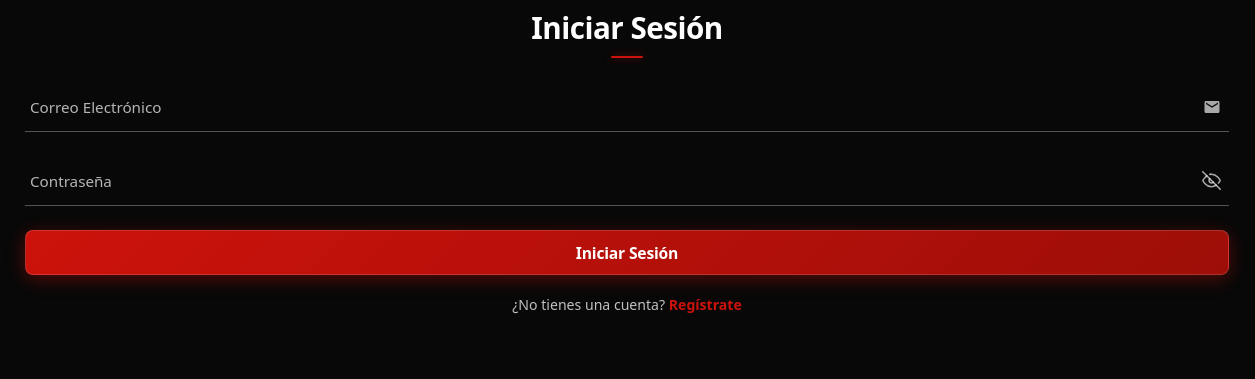
Test: LoginForm › envía las credenciales y solicita el cierre al iniciar sesión
Type "cine@example.com" into the field labelled "Correo Electrónico" at (627, 106), box [25, 82, 1229, 131]
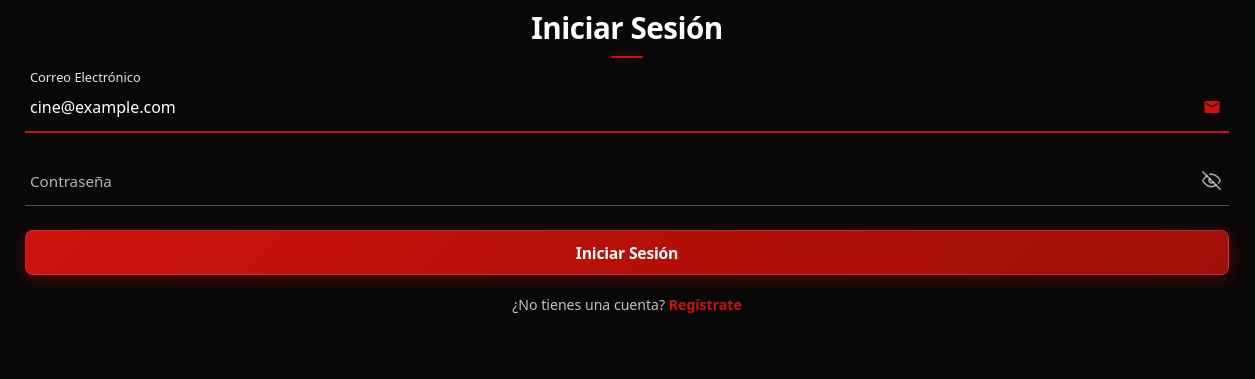
Type "clave123" into the password field labelled "Contraseña" at (627, 180), box [25, 156, 1229, 205]
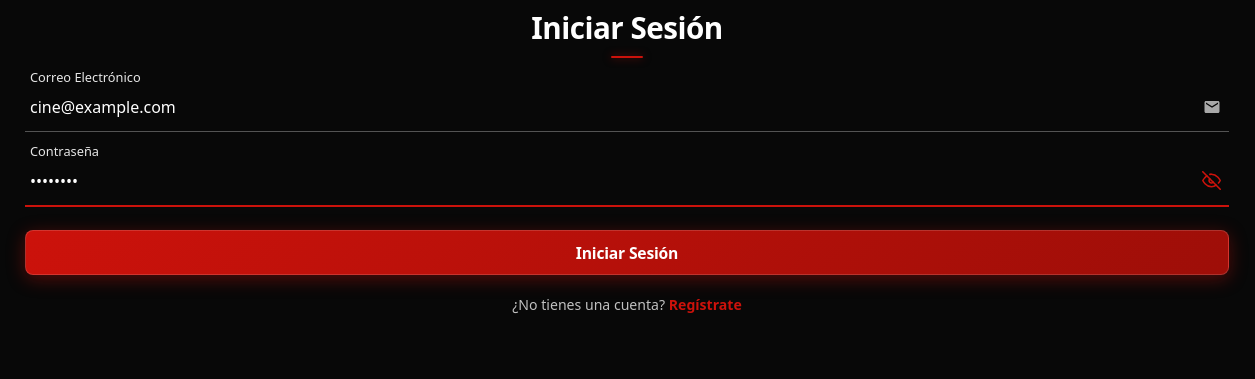
Click the button "Iniciar Sesión" at (627, 252), box [25, 230, 1229, 275]
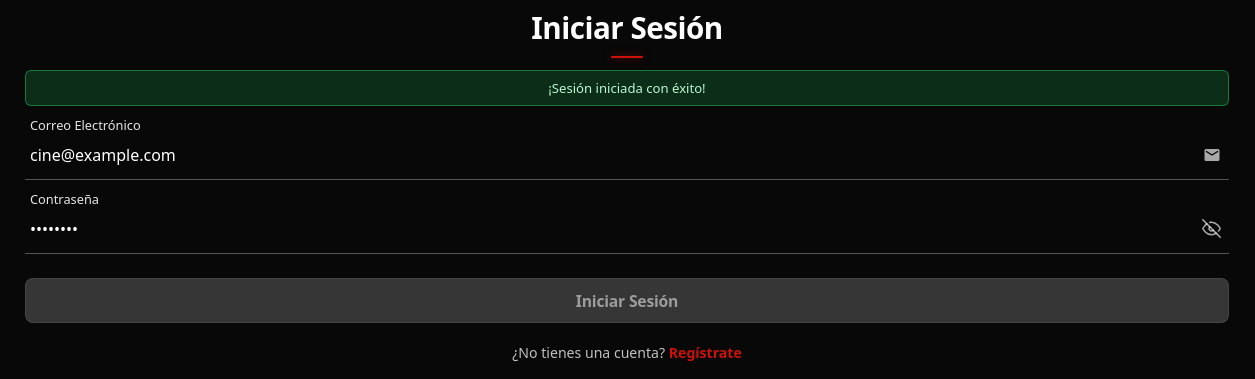
Result: the text "¡Sesión iniciada con éxito!" is shown at [25, 70, 1229, 106]
